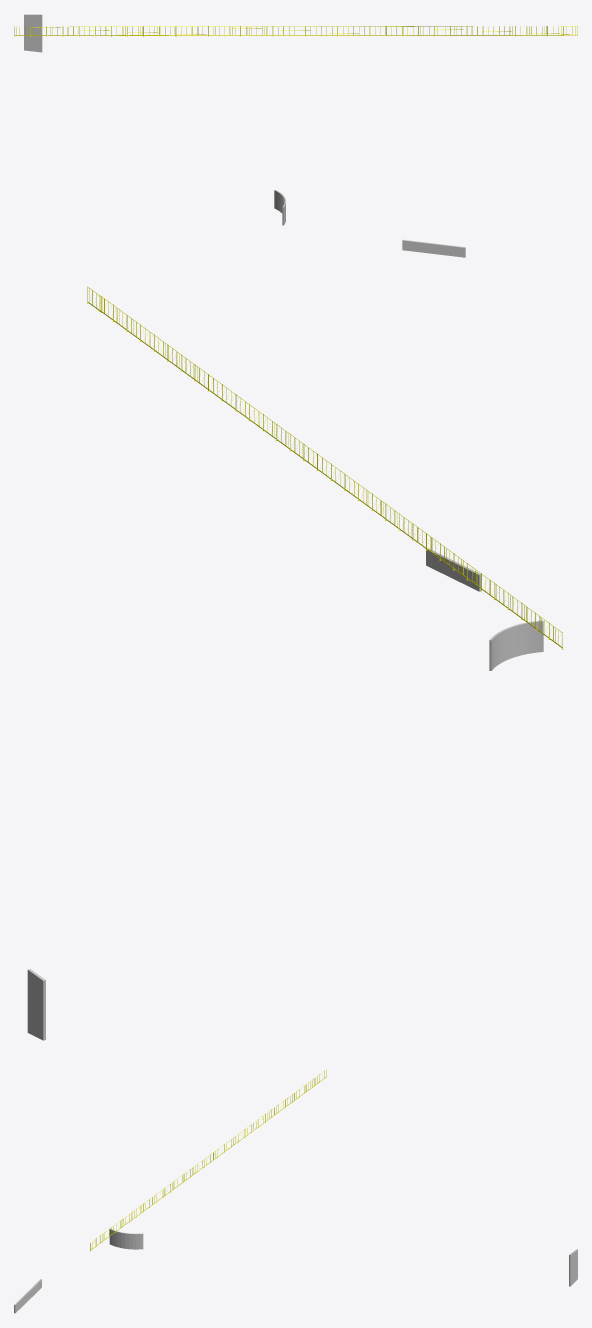
3 views of the same model, one above another, from view 1: azimuth 30°, elevation 25°; view 2: azimuth 150°, elevation 25°; view 3: azimuth 270°, elevation 25° (orthographic). The views are drawn at different scales.
Visible parts, largest first — view 1: 3iGLqpLGX5OQTwlrSQsjBj, 2eYYh$isT3$RKdZ91IYHFq; view 2: 3zy8ZyJhj5ouDbG5dzWoLo, 2eYYh$isT3$RKdZ91IYHFq, 3iGLqpLGX5OQTwlrSQsjBj; view 3: 3zy8ZyJhj5ouDbG5dzWoLo.
Part boxes in pixels (box(x1,y1,x2,y2)): 3iGLqpLGX5OQTwlrSQsjBj: box(402, 239, 465, 257); 2eYYh$isT3$RKdZ91IYHFq: box(24, 14, 42, 52); 3zy8ZyJhj5ouDbG5dzWoLo: box(489, 620, 543, 670); 2eYYh$isT3$RKdZ91IYHFq: box(27, 969, 45, 1040); 3iGLqpLGX5OQTwlrSQsjBj: box(426, 548, 481, 591); 3zy8ZyJhj5ouDbG5dzWoLo: box(109, 1228, 143, 1249).
Bounding box in the file's own units: 54.01 × 21.17 × 73.99.
